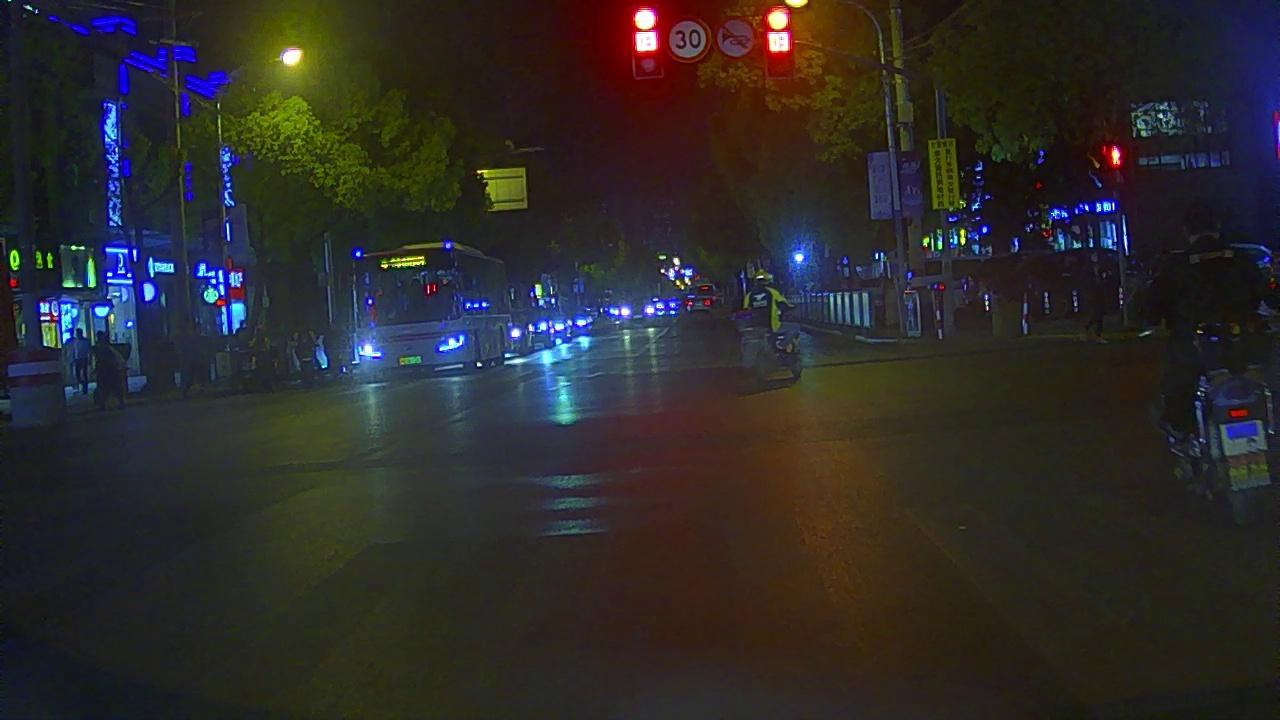traffic_light: (634, 7, 659, 75), (764, 8, 789, 75), (1103, 138, 1127, 172)
